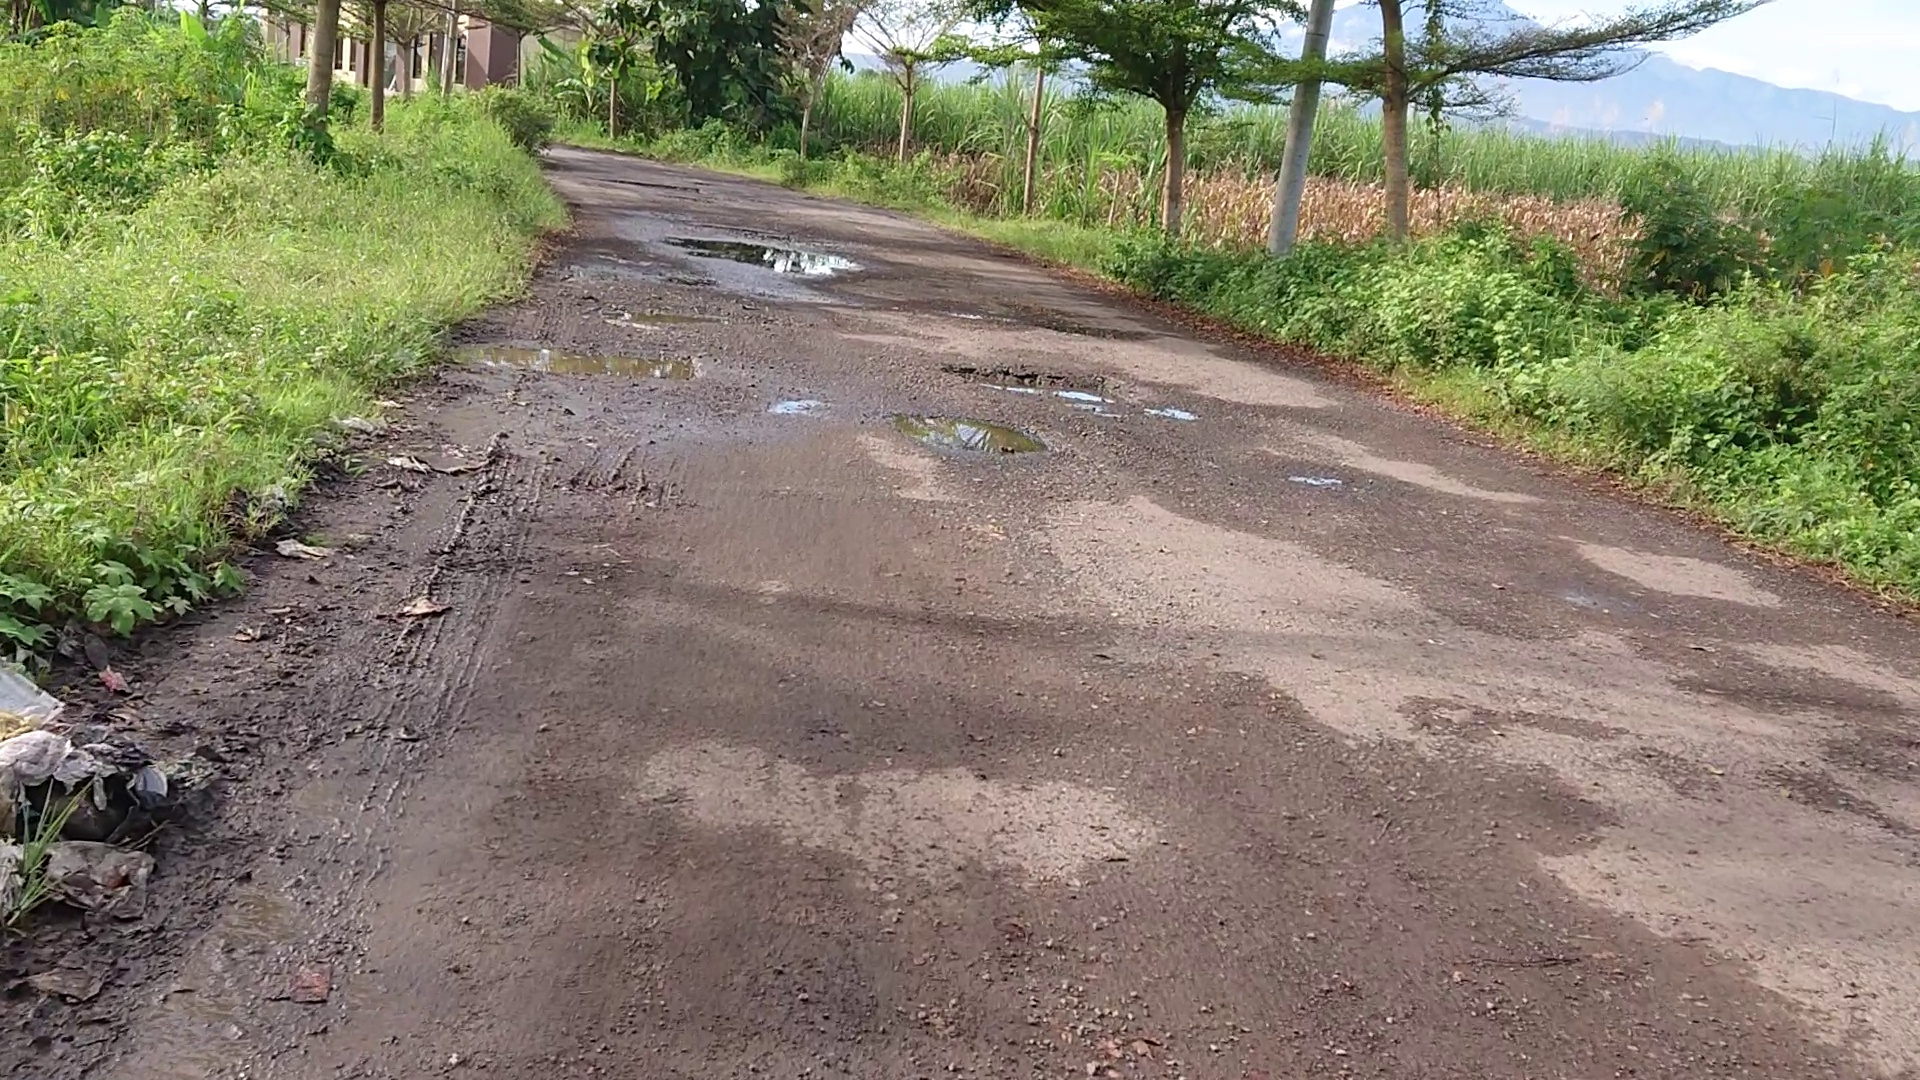Berlubang: (882, 353, 1189, 469), (662, 222, 884, 297), (931, 295, 1145, 343)
